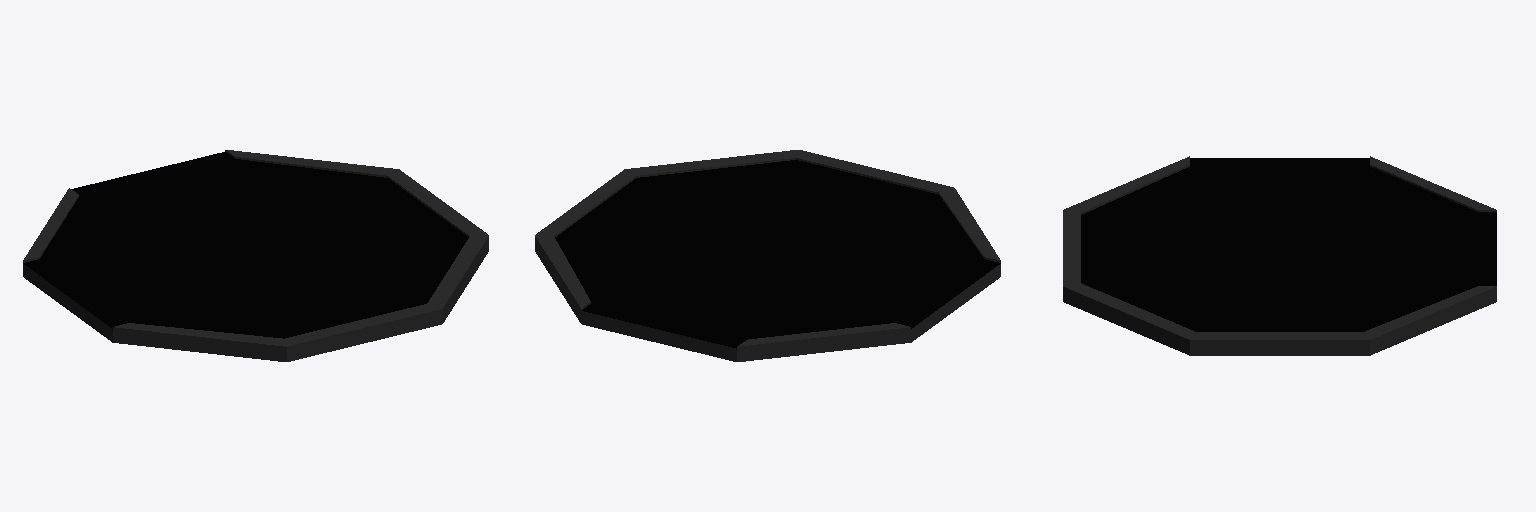
Rendered from culdesac.obj.
The picture shows the model from 3 angles: view 1: azimuth 30°, elevation 25°; view 2: azimuth 150°, elevation 25°; view 3: azimuth 270°, elevation 25°; orthographic projection.
Parts seen in each view (by area): view 1: Cylinder.001; view 2: Cylinder.001; view 3: Cylinder.001.
Part boxes in pixels (left/top/right/bottom): Cylinder.001: left=23, top=150, right=488, bottom=361; Cylinder.001: left=535, top=150, right=1000, bottom=361; Cylinder.001: left=1063, top=156, right=1496, bottom=355.
Size of the model in its own units: 28.97 by 1.15 by 28.97.